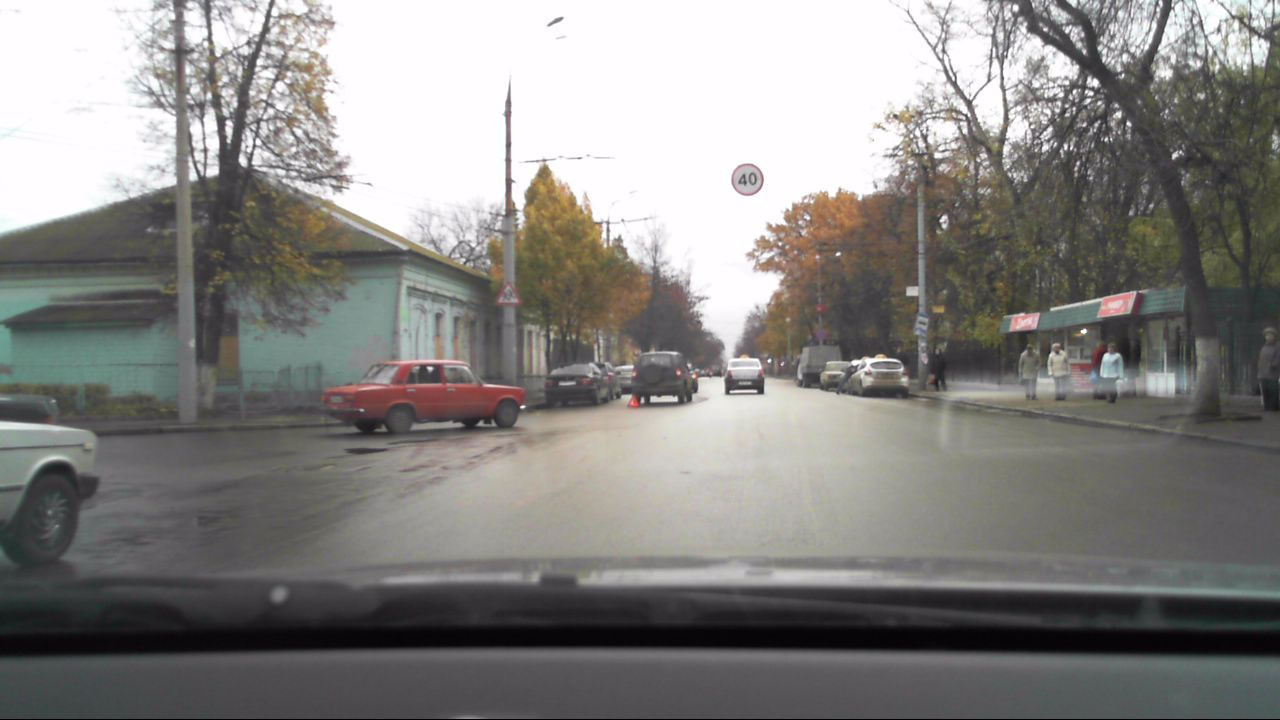speed_warning_40: (731, 163, 764, 195)
